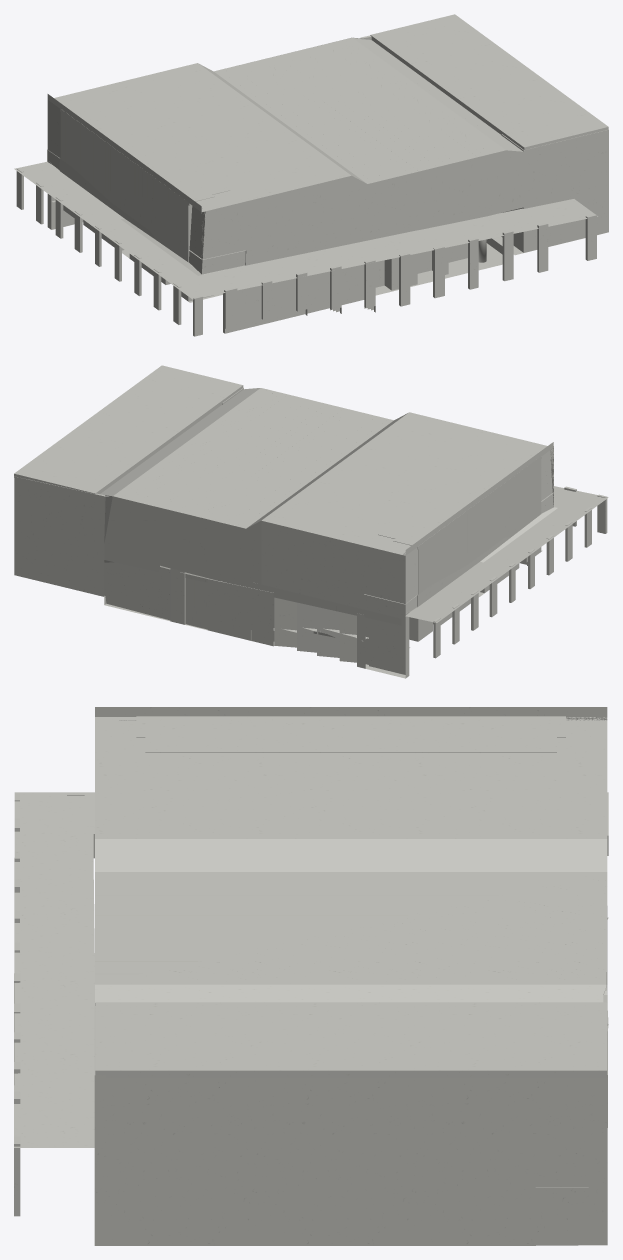
Rendered from theta_light.fbx.
The picture shows the model from 3 angles, top to bottom: view 1: azimuth 30°, elevation 25°; view 2: azimuth 150°, elevation 25°; view 3: azimuth 270°, elevation 25°; orthographic projection. The views are drawn at different scales.
Visible parts, largest first — view 1: concrete; view 2: concrete; view 3: concrete.
Part boxes in pixels (x1,y1,x2,y2): concrete: [14, 14, 608, 336]; concrete: [14, 365, 608, 678]; concrete: [14, 707, 608, 1245].
Size of the model in its own units: 4747 by 1378 by 3339.
Materials: 1 (1 with a texture image).
